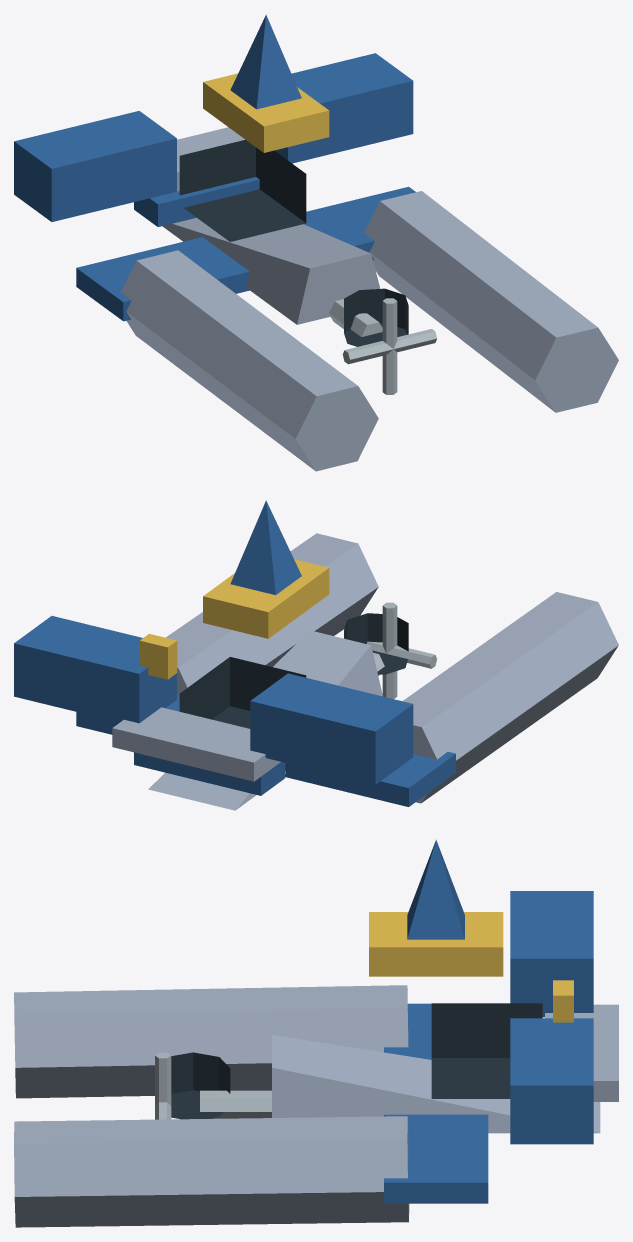
File: aerial-battleship.obj
The picture shows the model from 3 angles, top to bottom: view 1: azimuth 30°, elevation 25°; view 2: azimuth 150°, elevation 25°; view 3: azimuth 270°, elevation 25°; orthographic projection. The views are drawn at different scales.
Parts seen in each view (by area): view 1: air; view 2: air; view 3: air.
Part boxes in pixels (bbox=[...]): air: bbox=[14, 14, 618, 471]; air: bbox=[14, 500, 618, 810]; air: bbox=[14, 839, 618, 1227].
Bounding box in the file's own units: 1.99 × 1.51 × 2.61.
